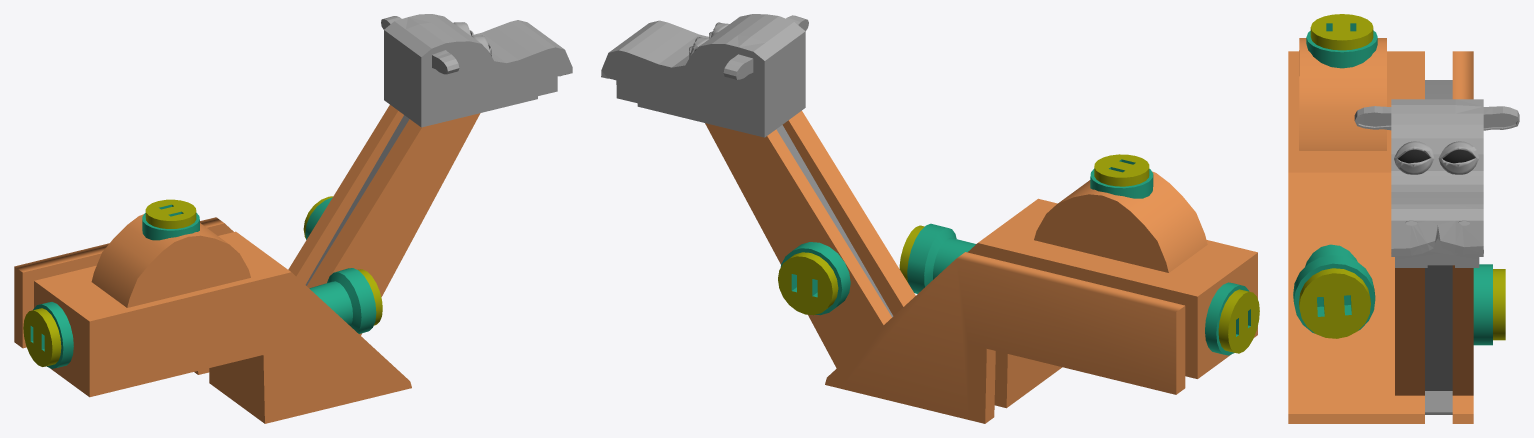
File: CamelChassis.fbx
3 views of the same model, side by side, from view 1: azimuth 30°, elevation 25°; view 2: azimuth 150°, elevation 25°; view 3: azimuth 270°, elevation 25° (orthographic). The views are drawn at different scales.
Parts seen in each view (by area): view 1: pCube3, Head2, Outlet1, Outlet4, Outlet3; view 2: pCube3, Head2, pCylinder25, Outlet4, Outlet1, Outlet3; view 3: pCube3, Head2, Outlet1, Outlet3, pCylinder25, pDisc4, pDisc3, pSphere3, pSphere4.
Part boxes in pixels (box(x1,y1,x2,y2)): pCube3: box(14, 105, 480, 423); Head2: box(381, 14, 572, 127); Outlet1: box(309, 268, 382, 333); Outlet4: box(23, 302, 73, 368); Outlet3: box(142, 199, 199, 240); pCube3: box(705, 110, 1257, 423); Head2: box(601, 14, 808, 137); pCylinder25: box(778, 242, 850, 315); Outlet4: box(1205, 282, 1259, 355); Outlet1: box(899, 223, 975, 293); Outlet3: box(1090, 154, 1153, 198); pCube3: box(1288, 38, 1473, 423); Head2: box(1354, 99, 1519, 267); Outlet1: box(1293, 244, 1375, 338); Outlet3: box(1306, 14, 1377, 68); pCylinder25: box(1473, 264, 1505, 345); pDisc4: box(1438, 141, 1479, 174); pDisc3: box(1394, 141, 1434, 174); pSphere3: box(1398, 149, 1430, 163); pSphere4: box(1443, 149, 1474, 163).
Size of the model in its own units: 18.94 by 9.84 by 5.66.
